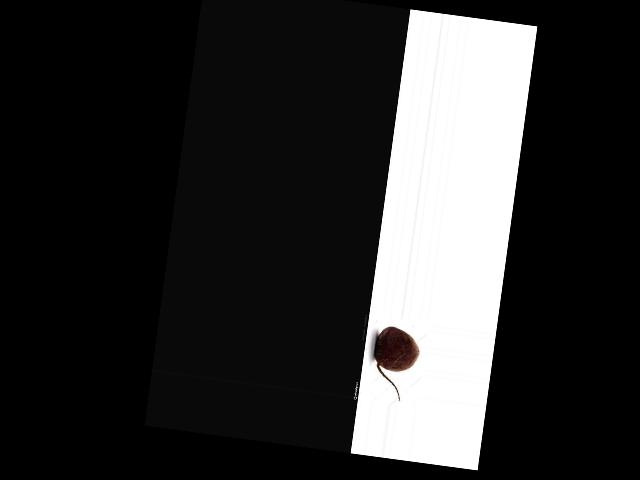beet: (368, 324, 421, 402)
